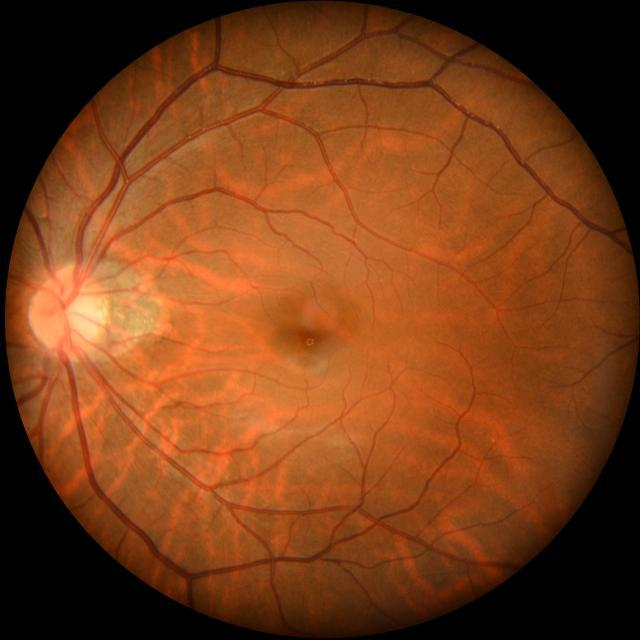OC: (60, 294, 96, 336)
OD: (31, 266, 107, 358)
